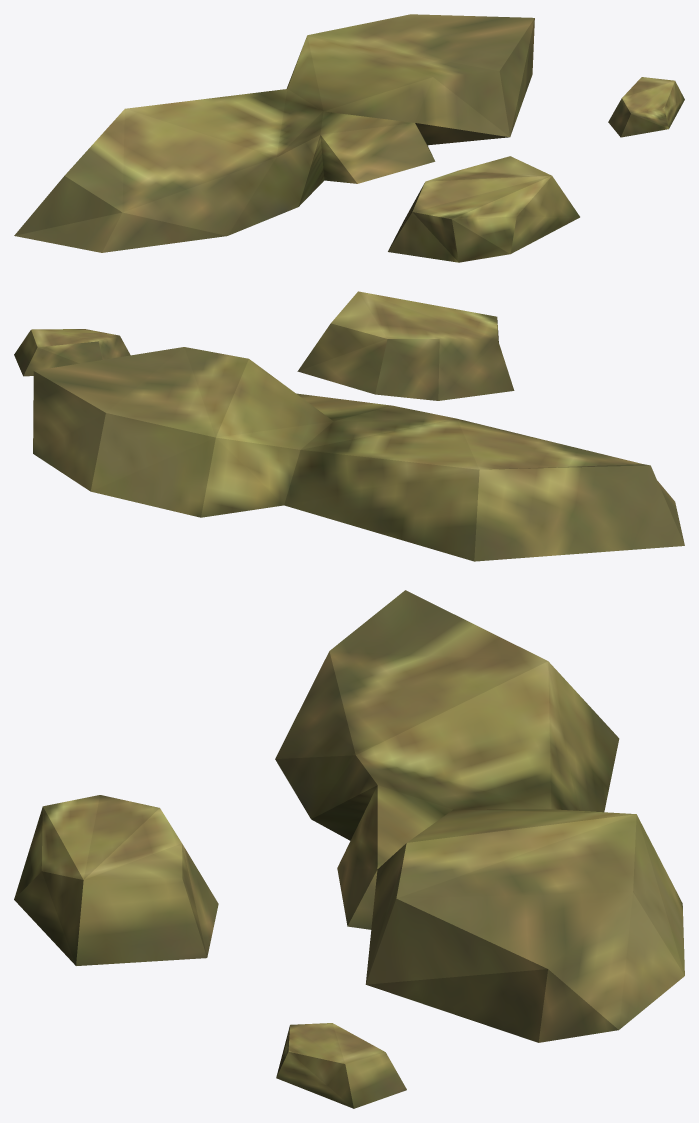
The model's file is shitou05.FBX.
3 renders of one model, top to bottom at view 1: azimuth 30°, elevation 25°; view 2: azimuth 150°, elevation 25°; view 3: azimuth 270°, elevation 25°, orthographic. The views are drawn at different scales.
Visible parts, largest first — view 1: shitou05; view 2: shitou05; view 3: shitou05.
Part boxes in pixels (left/top/right/bottom): shitou05: left=14, top=14, right=684, bottom=262; shitou05: left=14, top=291, right=684, bottom=561; shitou05: left=14, top=590, right=684, bottom=1108.
Size of the model in its own units: 85.35 by 8.48 by 52.32.
